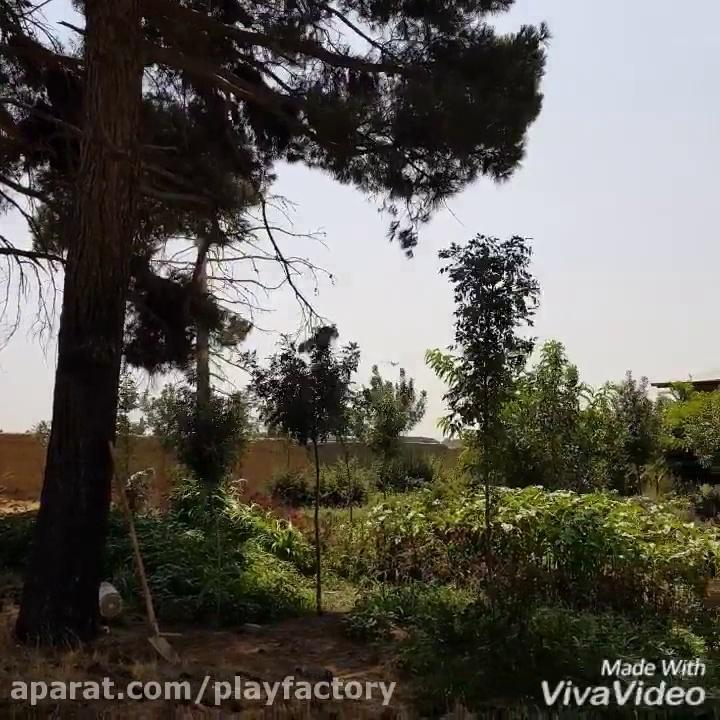drone: (386, 356, 401, 368)
